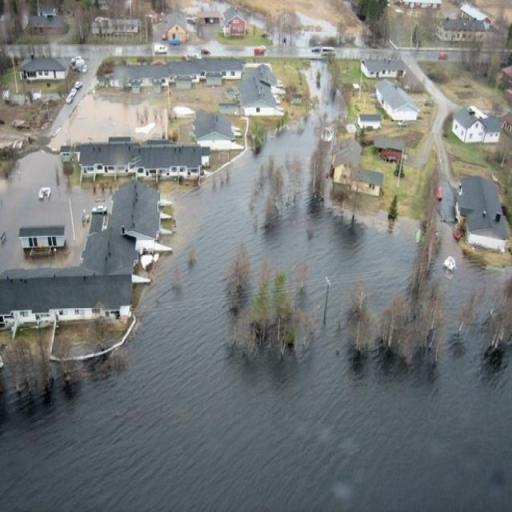flood: (0, 160, 512, 507), (244, 61, 345, 219), (0, 151, 96, 267), (404, 55, 460, 181), (49, 94, 167, 149), (269, 11, 338, 56), (3, 42, 151, 60), (409, 131, 435, 168), (202, 39, 253, 57)
house: (0, 267, 131, 325), (457, 177, 509, 249), (106, 184, 161, 244), (233, 64, 284, 115), (138, 143, 202, 182), (374, 78, 424, 126), (76, 140, 139, 178), (83, 232, 137, 275), (449, 103, 501, 147), (15, 54, 72, 90), (333, 160, 385, 199), (196, 112, 242, 154), (169, 58, 243, 82), (112, 62, 170, 92), (92, 16, 143, 43), (436, 17, 486, 43), (19, 225, 65, 249), (360, 58, 407, 81), (219, 2, 247, 40), (376, 136, 406, 162), (30, 16, 67, 34), (356, 112, 382, 130)
